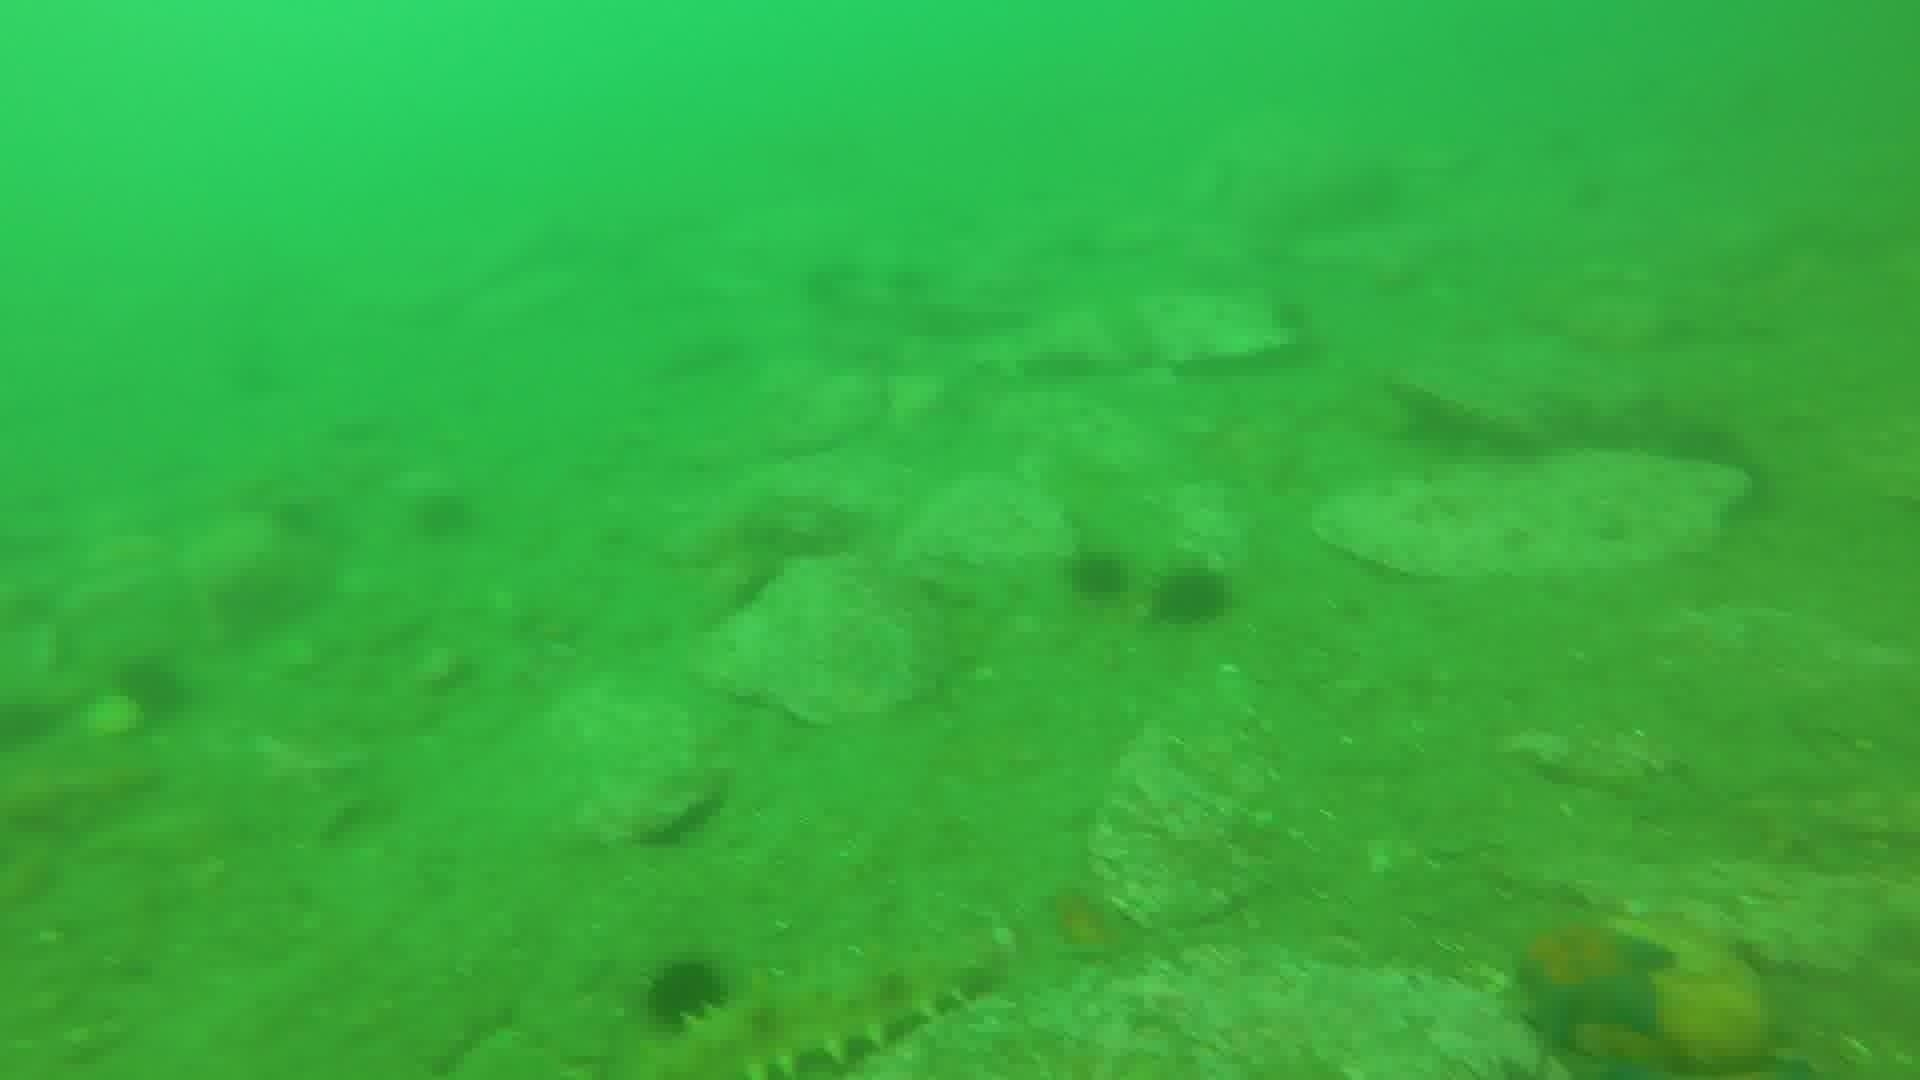echinus: (640, 953, 731, 1035), (109, 651, 194, 728), (1149, 562, 1236, 632), (1062, 545, 1133, 608), (407, 485, 480, 547)
holothurian: (663, 931, 1006, 1076)
starfish: (1505, 914, 1677, 1054), (1035, 880, 1147, 971)
